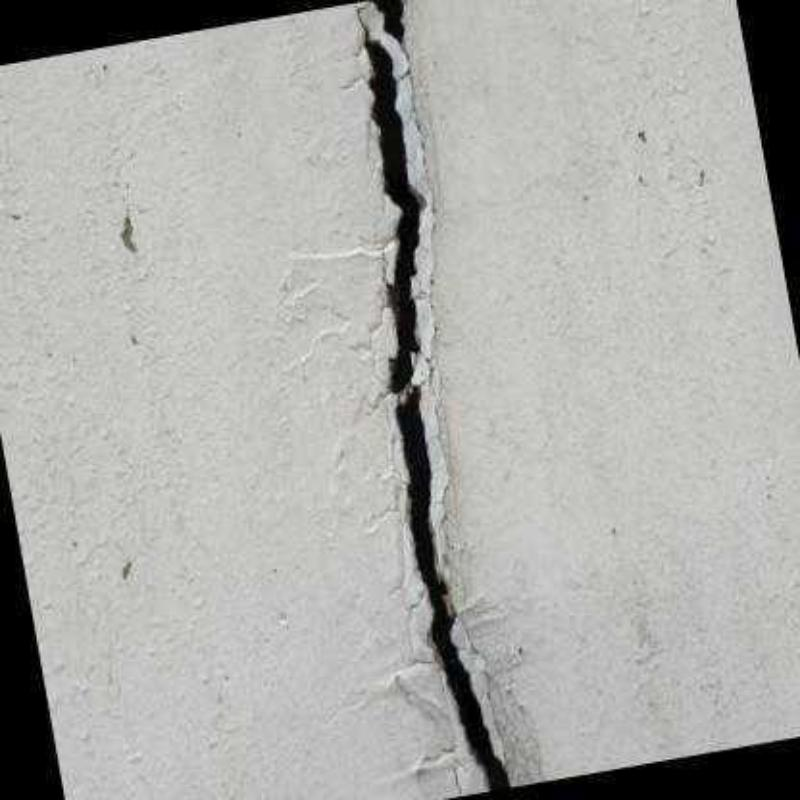pothole: (355, 5, 514, 791), (368, 0, 412, 64)
